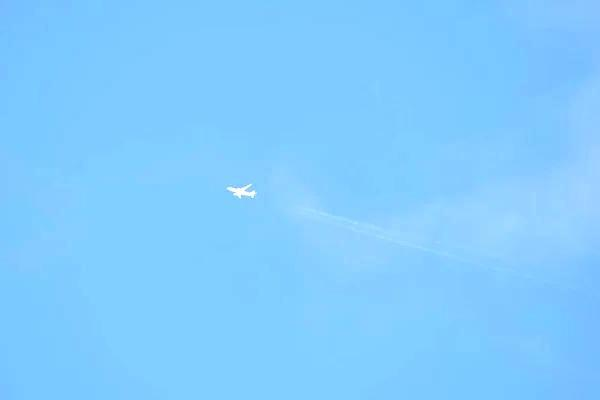Plane: (212, 175, 270, 206)
